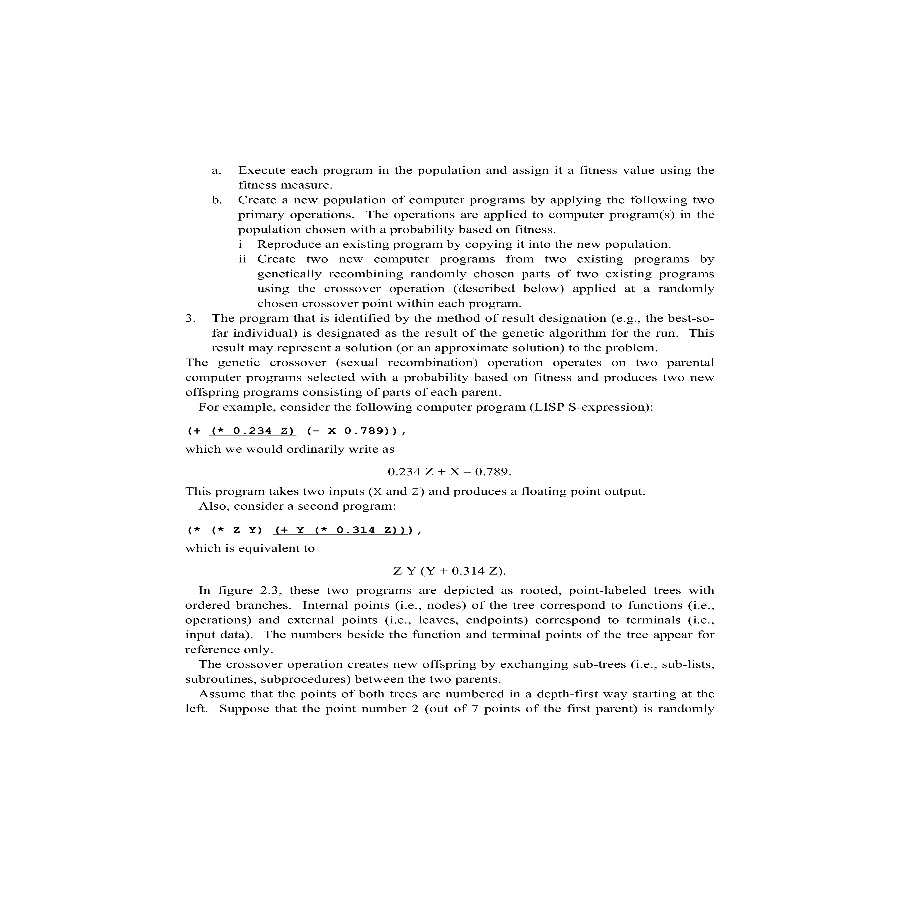eq: (186, 519, 414, 540), (385, 462, 517, 482), (391, 561, 507, 579)
